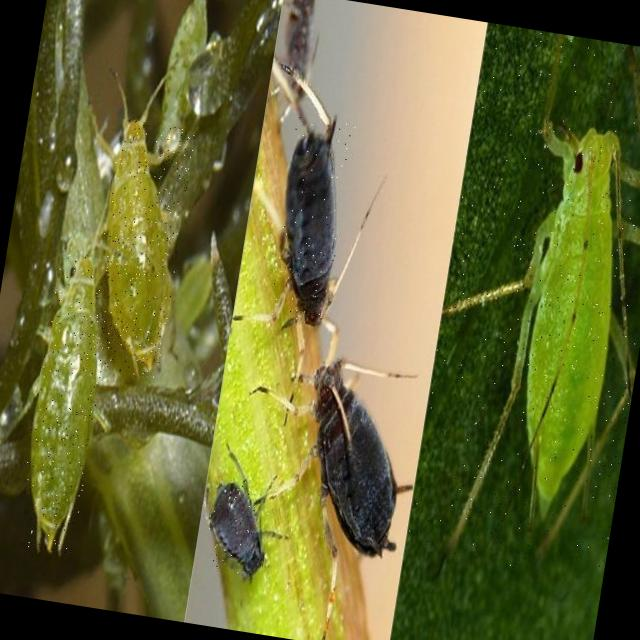aphid: (406, 23, 640, 580), (15, 253, 119, 554), (83, 118, 197, 380), (290, 358, 421, 558), (266, 115, 356, 327), (202, 482, 274, 579)
